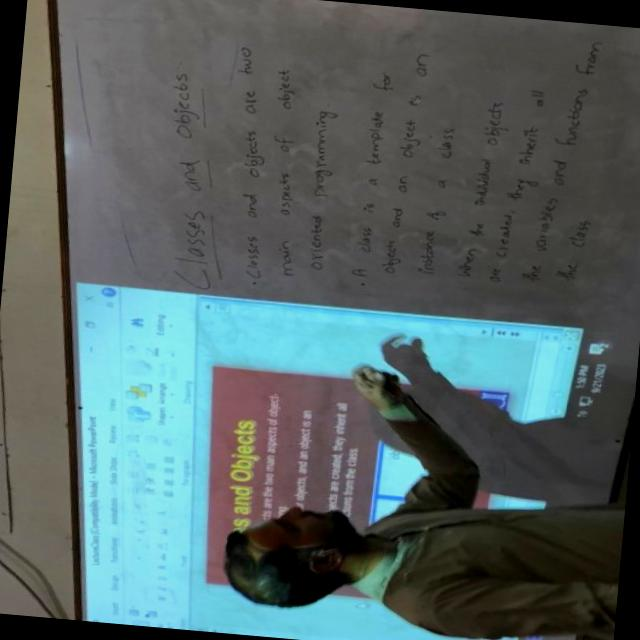Instructor: (199, 467, 621, 640)
Slide: (75, 278, 619, 640)
White-board: (49, 0, 640, 640)
